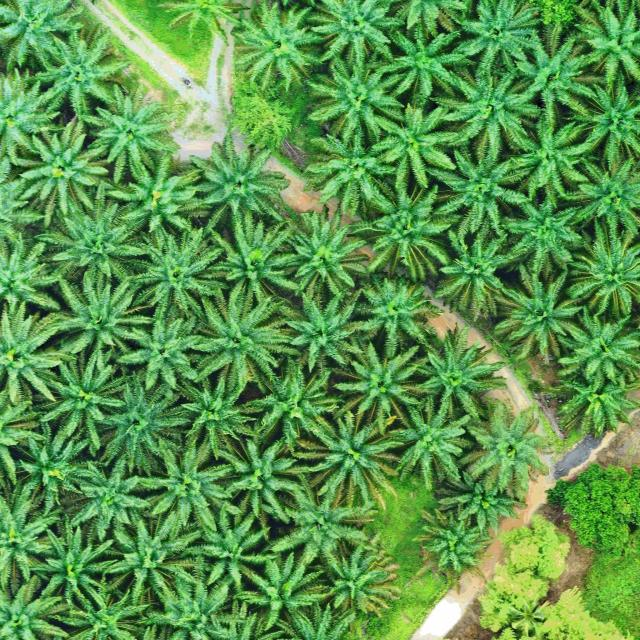Tree: (187, 287, 300, 393), (5, 120, 110, 232), (510, 27, 611, 140), (292, 408, 401, 512), (455, 396, 558, 505), (206, 428, 311, 534), (32, 273, 154, 364), (362, 174, 460, 286), (77, 81, 182, 185), (425, 62, 542, 155), (94, 371, 192, 479), (370, 89, 468, 195), (177, 140, 289, 232), (500, 183, 602, 284), (98, 509, 202, 608), (125, 221, 224, 325), (19, 414, 115, 520), (428, 138, 529, 238), (266, 483, 379, 572), (33, 348, 126, 456), (406, 324, 507, 422), (133, 446, 243, 535), (327, 338, 429, 432), (505, 105, 601, 204), (372, 15, 476, 106), (165, 367, 259, 466), (40, 196, 145, 284), (492, 266, 586, 362), (235, 2, 329, 98), (102, 152, 206, 237), (248, 357, 340, 452), (282, 284, 370, 382), (308, 56, 403, 146), (386, 396, 474, 493), (307, 127, 397, 220), (206, 216, 296, 306), (32, 519, 122, 608), (278, 209, 368, 298), (0, 480, 71, 592), (64, 456, 155, 542), (112, 308, 206, 390), (194, 506, 278, 595), (552, 301, 640, 385), (449, 0, 550, 73), (305, 0, 409, 69), (240, 552, 326, 635), (1, 298, 67, 406), (566, 72, 640, 167), (562, 462, 640, 552), (550, 364, 640, 440), (438, 230, 520, 312), (562, 154, 640, 240), (142, 568, 235, 640), (356, 273, 441, 350), (314, 541, 396, 618), (568, 230, 640, 317), (571, 1, 640, 86), (416, 505, 496, 575), (439, 463, 519, 532), (0, 569, 71, 640)
